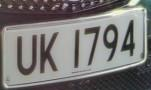1: (68, 21, 85, 75)
4: (118, 15, 139, 60)
7: (82, 22, 102, 70)
9: (101, 20, 121, 65)
K: (37, 28, 61, 78)
U: (13, 31, 40, 80)
